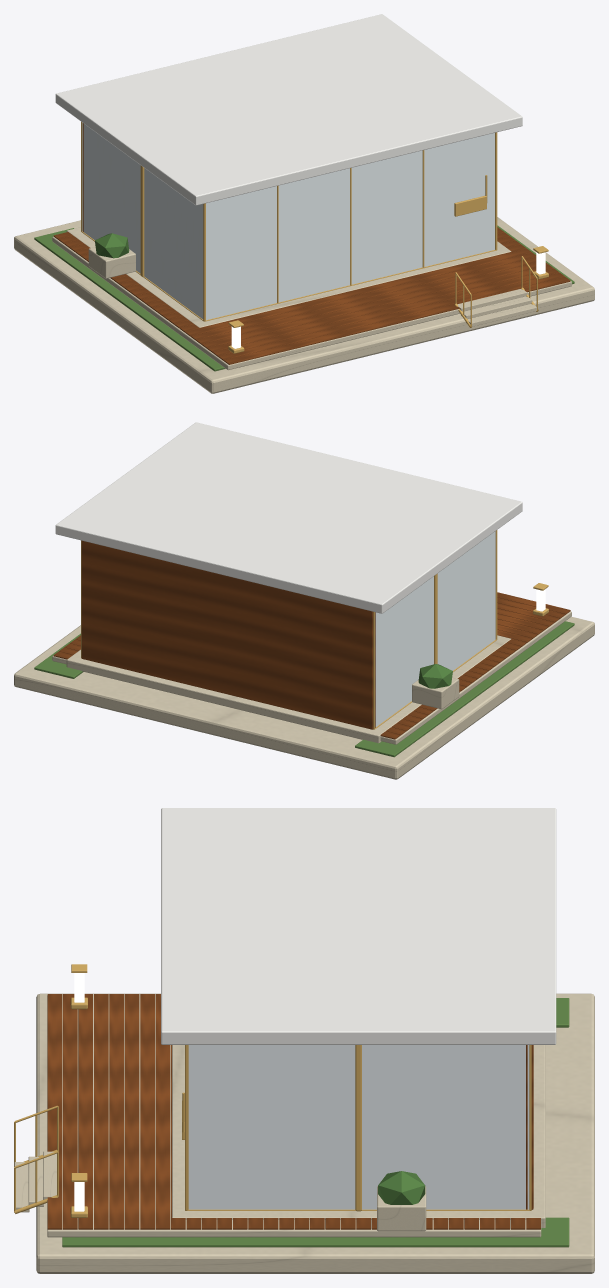
File: House1.fbx
3 views of the same model, one above another, from view 1: azimuth 30°, elevation 25°; view 2: azimuth 150°, elevation 25°; view 3: azimuth 270°, elevation 25° (orthographic). The views are drawn at different scales.
Parts seen in each view (by area): view 1: House1, Base; view 2: House1, Base; view 3: House1, Base.
Part boxes in pixels (left/top/right/bottom): House1: left=34, top=14, right=574, bottom=371; Base: left=14, top=217, right=594, bottom=393; House1: left=34, top=422, right=574, bottom=757; Base: left=14, top=616, right=594, bottom=779; House1: left=14, top=808, right=569, bottom=1247; Base: left=36, top=993, right=594, bottom=1273.
Bounding box in the file's own units: 2900 × 1150 × 2705.
Materials: 14 (3 with a texture image).
